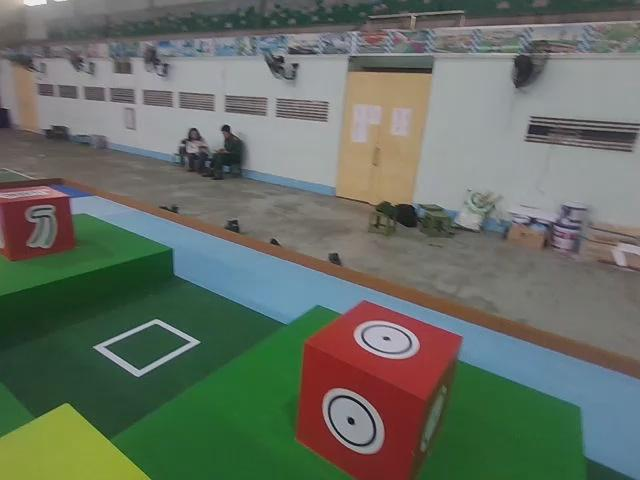R2 Fake: (1, 181, 78, 263)
R2 Real: (294, 298, 464, 480)
